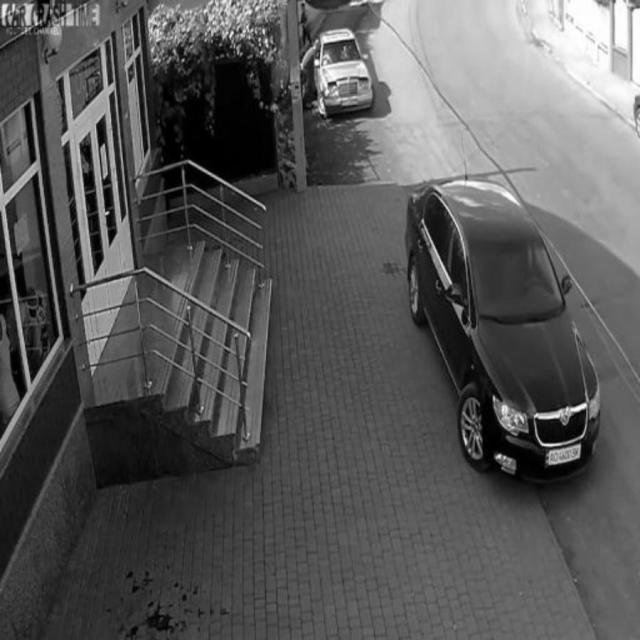vehicle: (408, 185, 602, 465), (317, 29, 371, 117)
